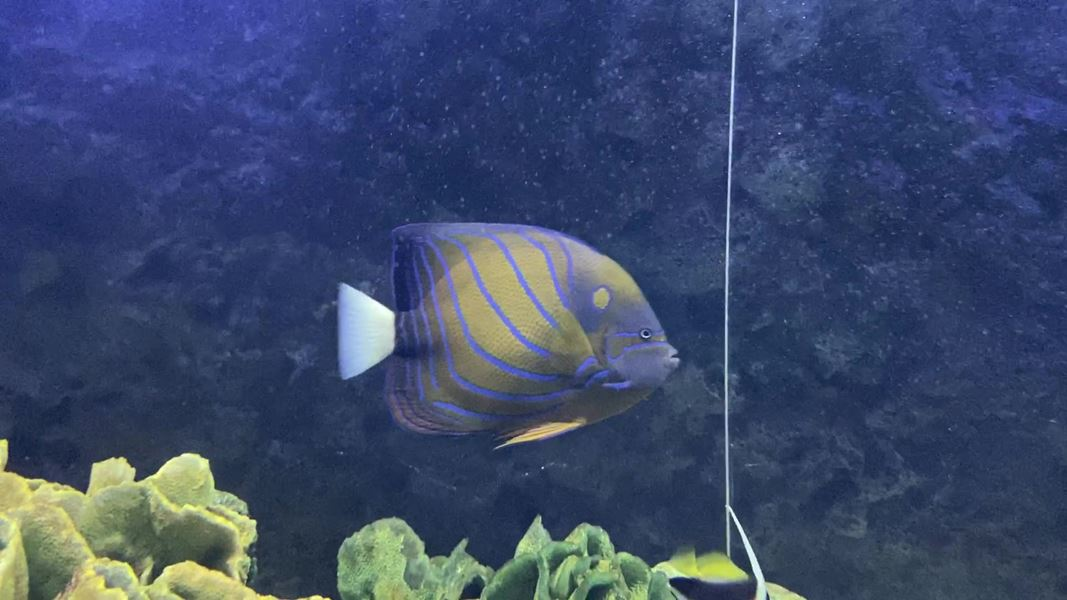Blue ring angelfish: (315, 213, 685, 470)
